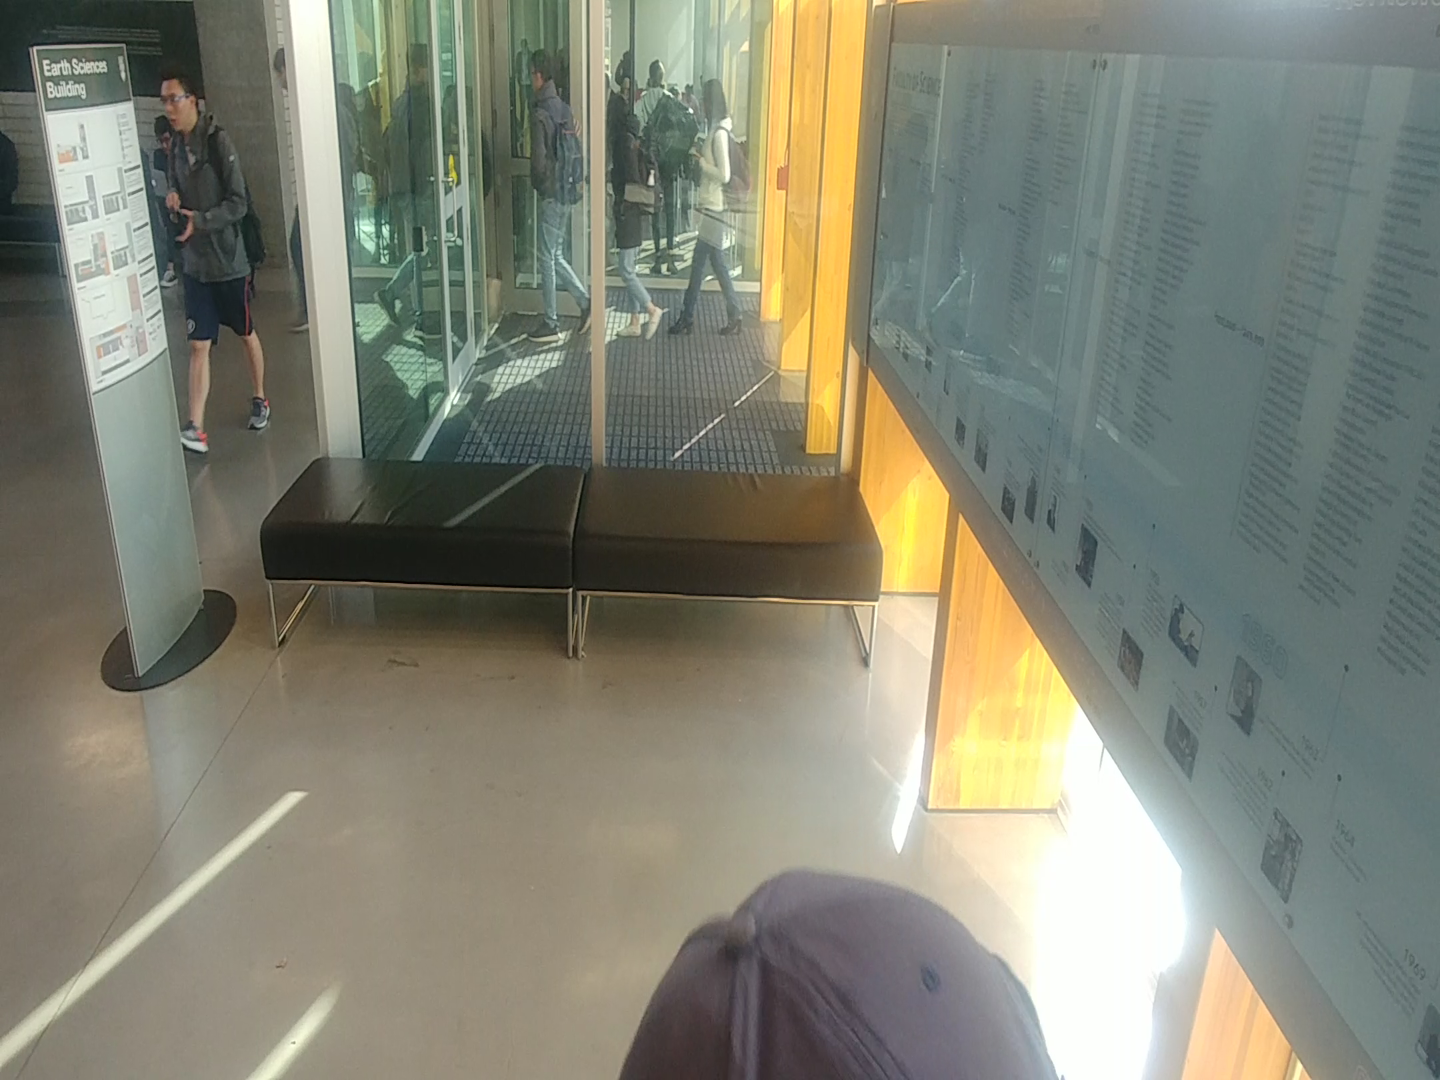face: (149, 56, 213, 142), (685, 64, 744, 142), (513, 40, 561, 101), (607, 85, 644, 145), (144, 107, 177, 160)
human: (147, 61, 279, 468), (515, 37, 593, 354), (667, 59, 752, 346), (602, 75, 667, 353)
